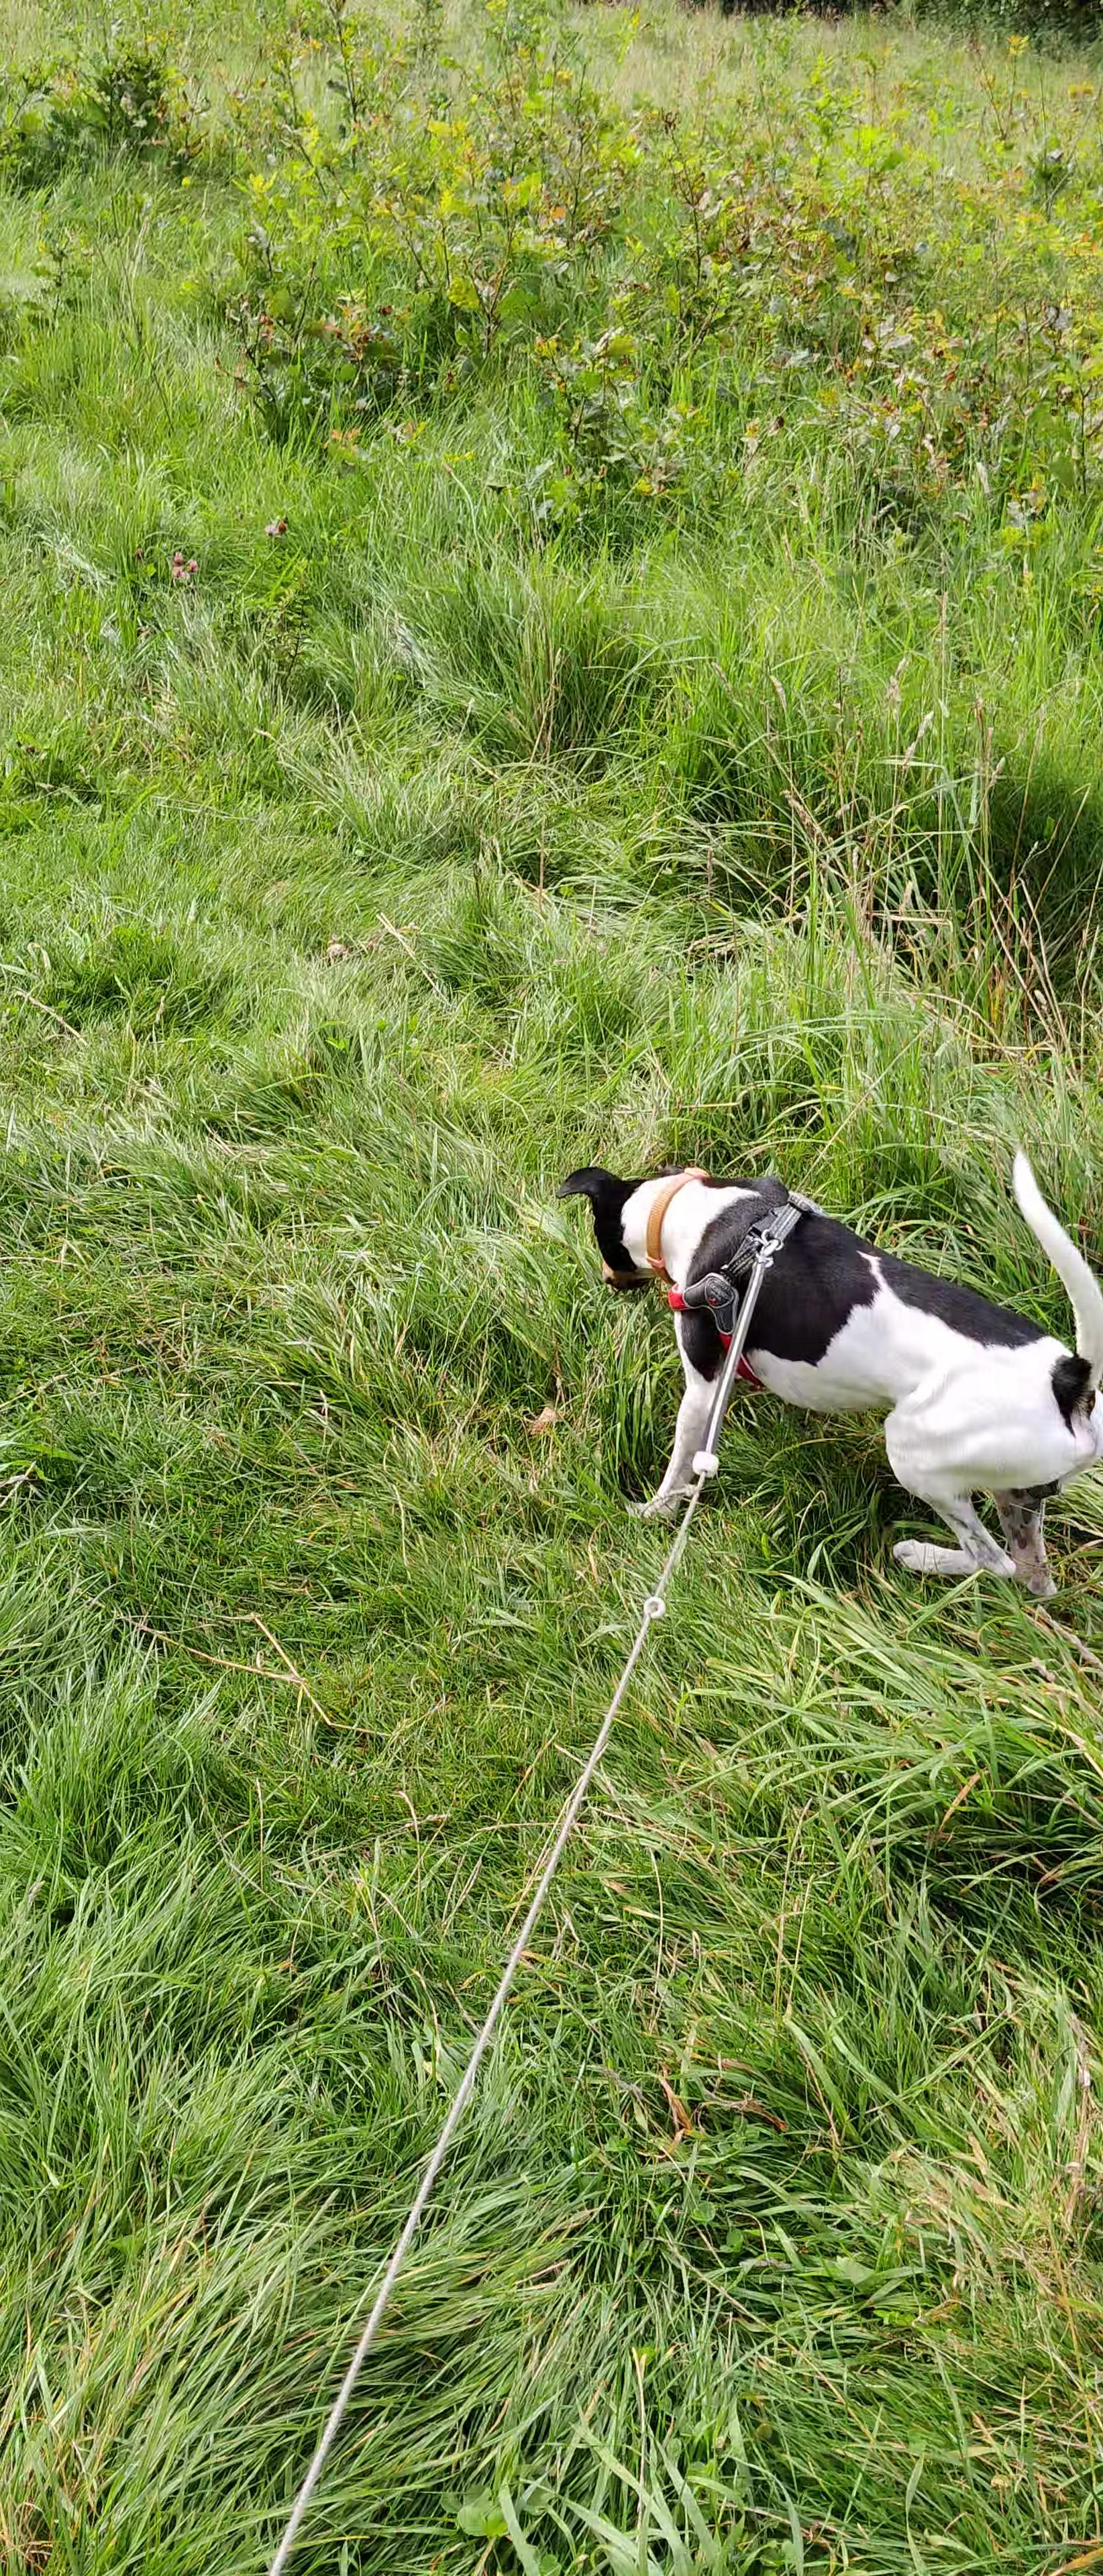Dog: (547, 1096, 1103, 1640)
